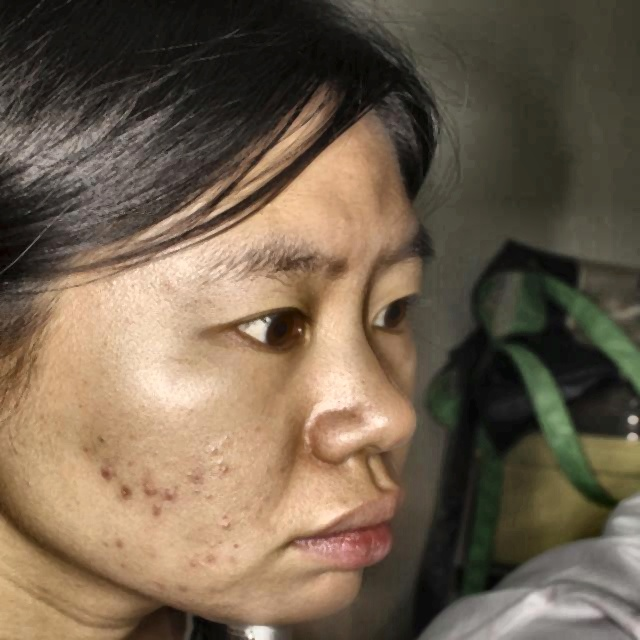pustule: (199, 544, 219, 572), (117, 478, 133, 508), (144, 505, 169, 520), (92, 461, 112, 479), (114, 534, 138, 548), (142, 474, 156, 496), (160, 486, 175, 505)
